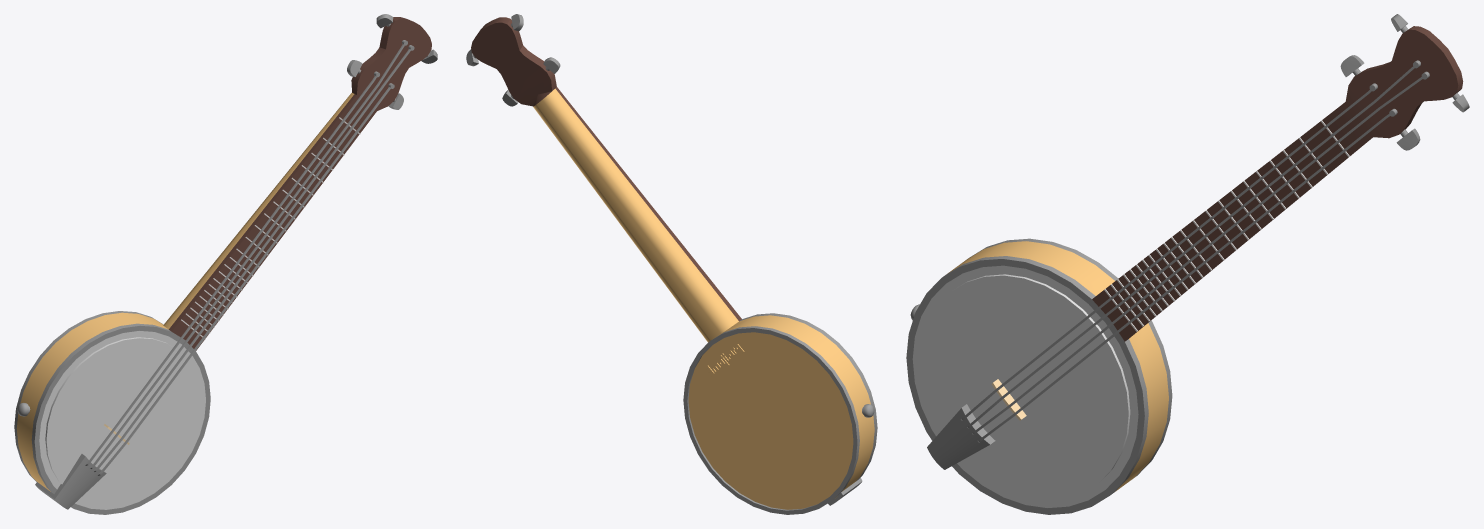
Rendered from banjo.fbx.
3 renders of one model, left to right at view 1: azimuth 30°, elevation 25°; view 2: azimuth 150°, elevation 25°; view 3: azimuth 330°, elevation 25°, orthographic. The views are drawn at different scales.
Visible parts, largest first — view 1: Cylinder.494; view 2: Cylinder.494; view 3: Cylinder.494.
Boxes of the visible parts, x1,y1,x2,y2 form: Cylinder.494: (14,14,437,514); Cylinder.494: (466,14,877,514); Cylinder.494: (906,14,1469,514).
Size of the model in its own units: 235 by 232 by 26.39.
Materials: 1 (1 with a texture image).
